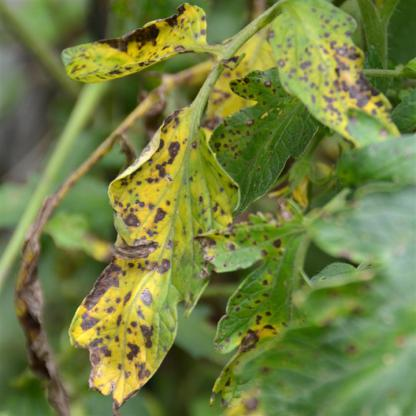tomato septoria leaf spot: (49, 98, 237, 406), (207, 199, 328, 406), (275, 3, 402, 146), (60, 6, 217, 85)
